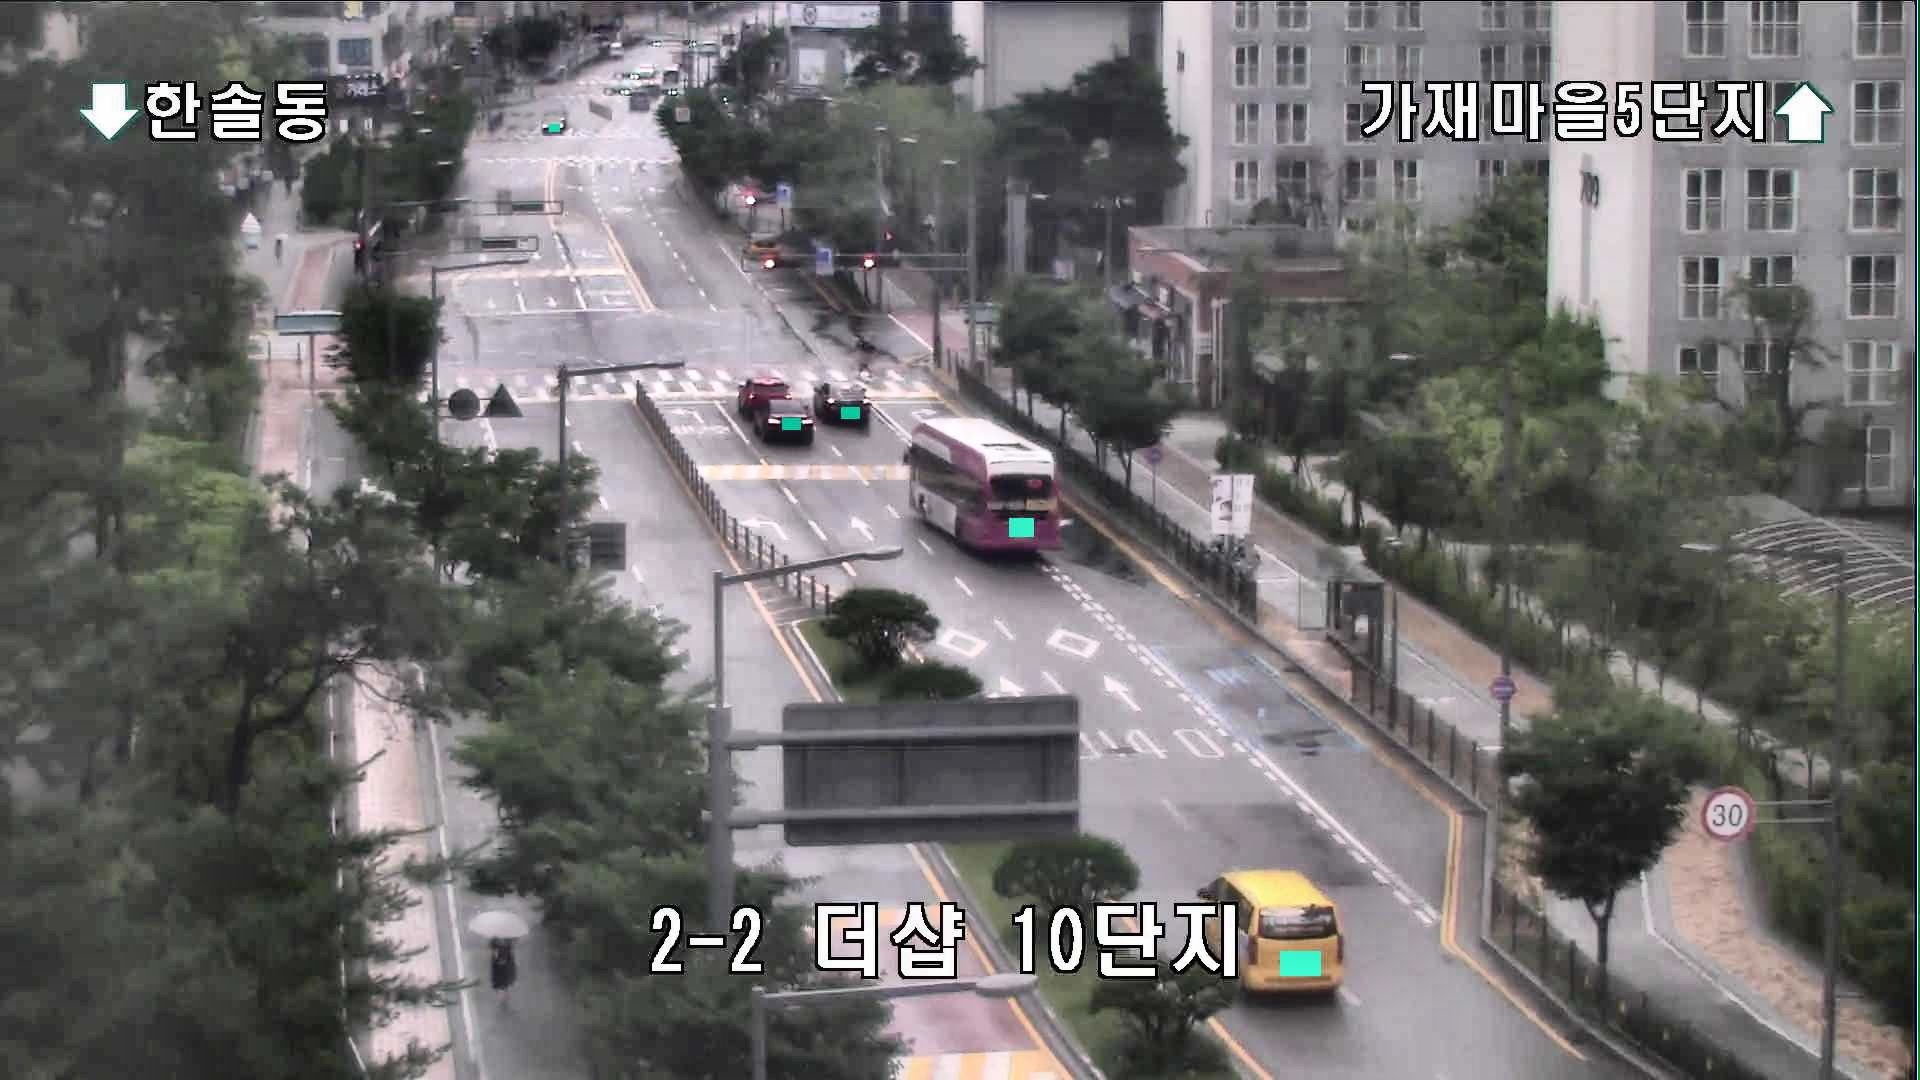um_crosswalk: (855, 335, 880, 386)
um_sidewalk: (465, 913, 531, 1007), (273, 229, 290, 264)
